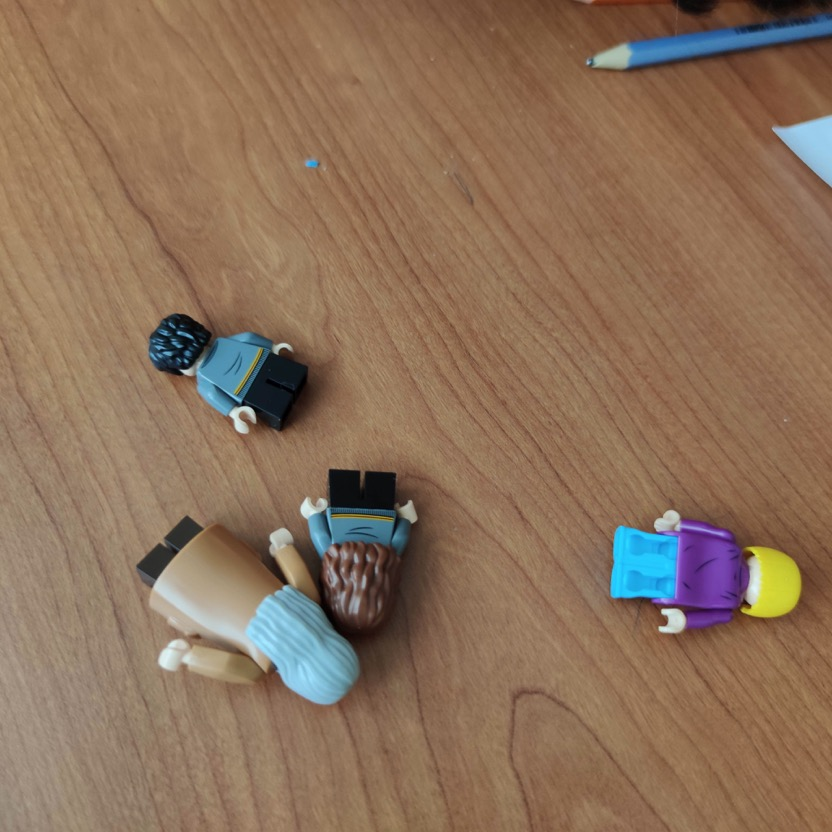lego: (137, 515, 363, 707), (610, 511, 802, 635), (299, 469, 419, 643), (148, 315, 310, 435)
